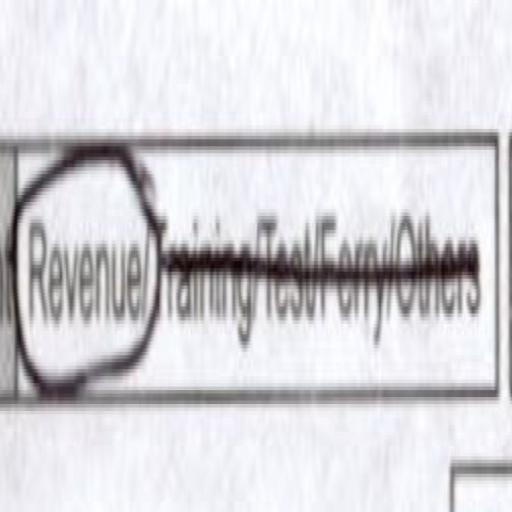check: (16, 113, 144, 406)
